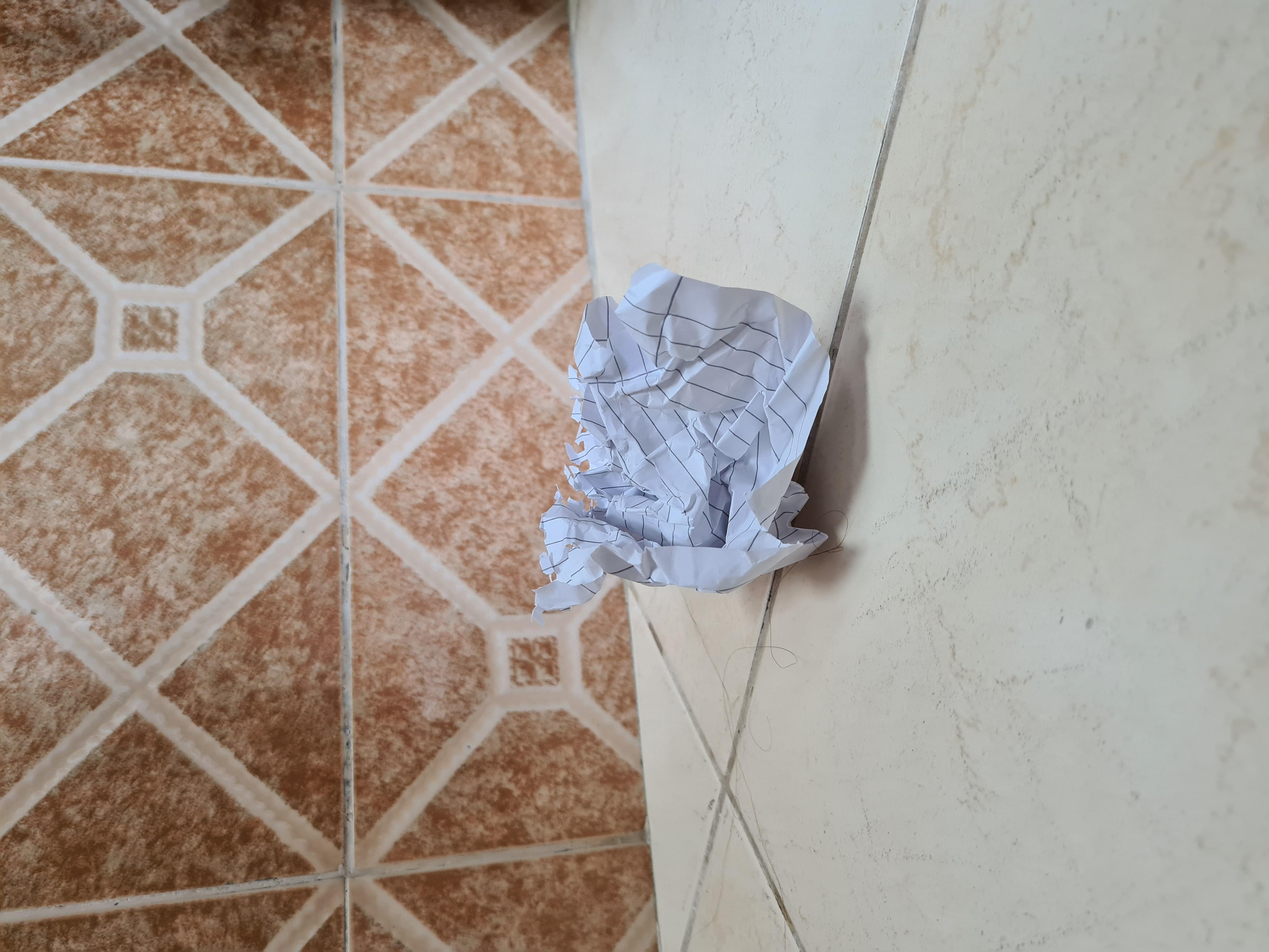paper: (437, 411, 929, 648)
